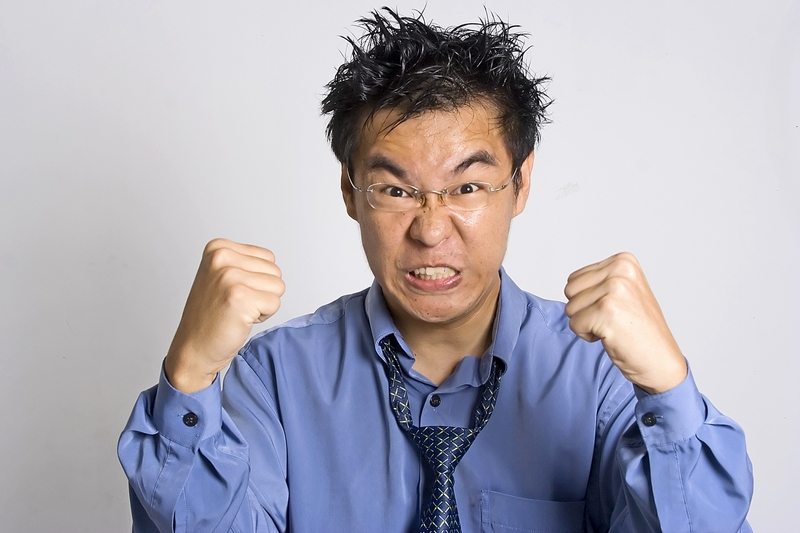anger: (356, 104, 506, 311)
